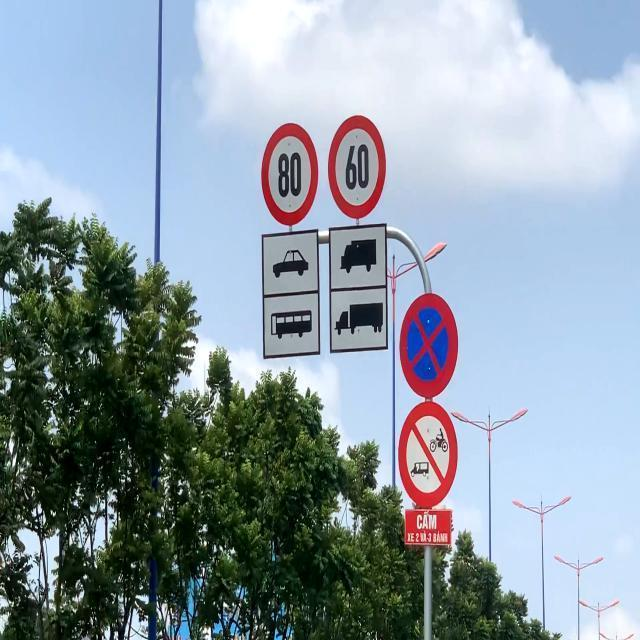127-toc-do-toi-da-60: (328, 112, 388, 216)
127-toc-do-toi-da-80: (258, 120, 320, 224)
130-cam-dung-va-do-xe: (399, 292, 459, 396)
